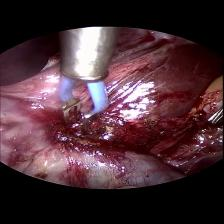Bipolar: (58, 48, 110, 132)
